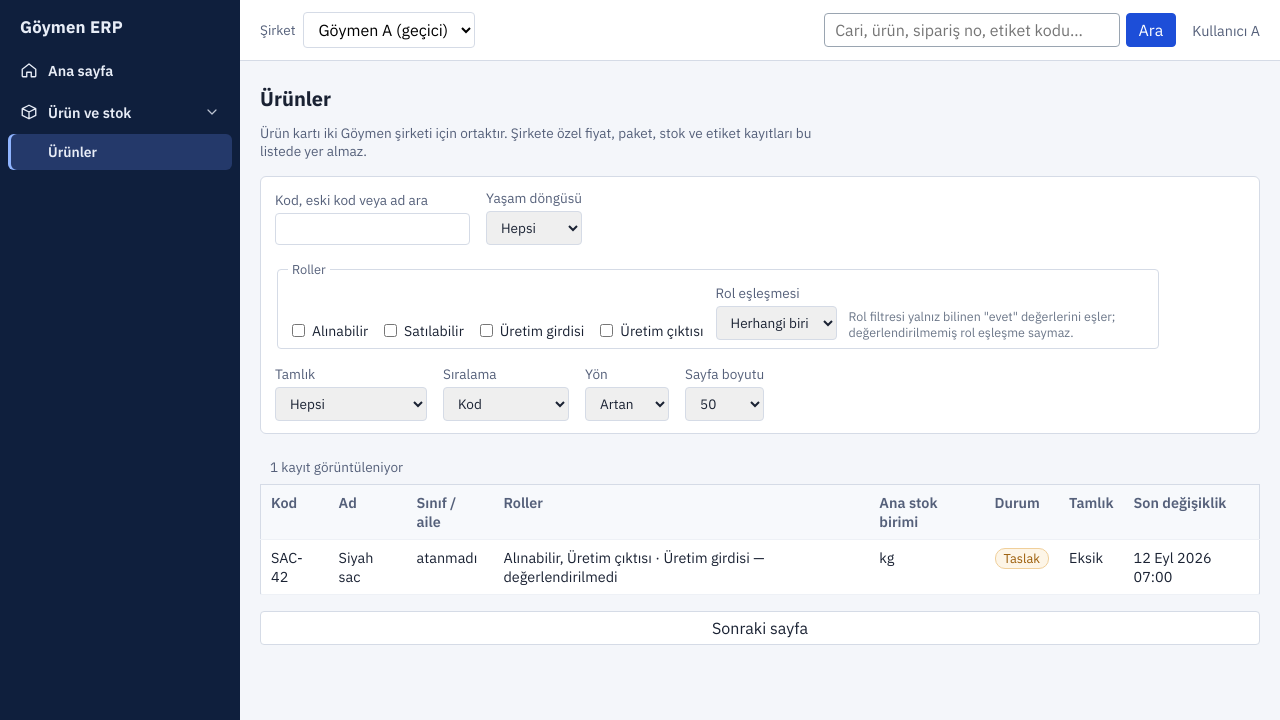
Test: paging › keeps the rows already on screen when the next page fails
Click the button "Sonraki sayfa" at (760, 628), box [260,611,1260,645]
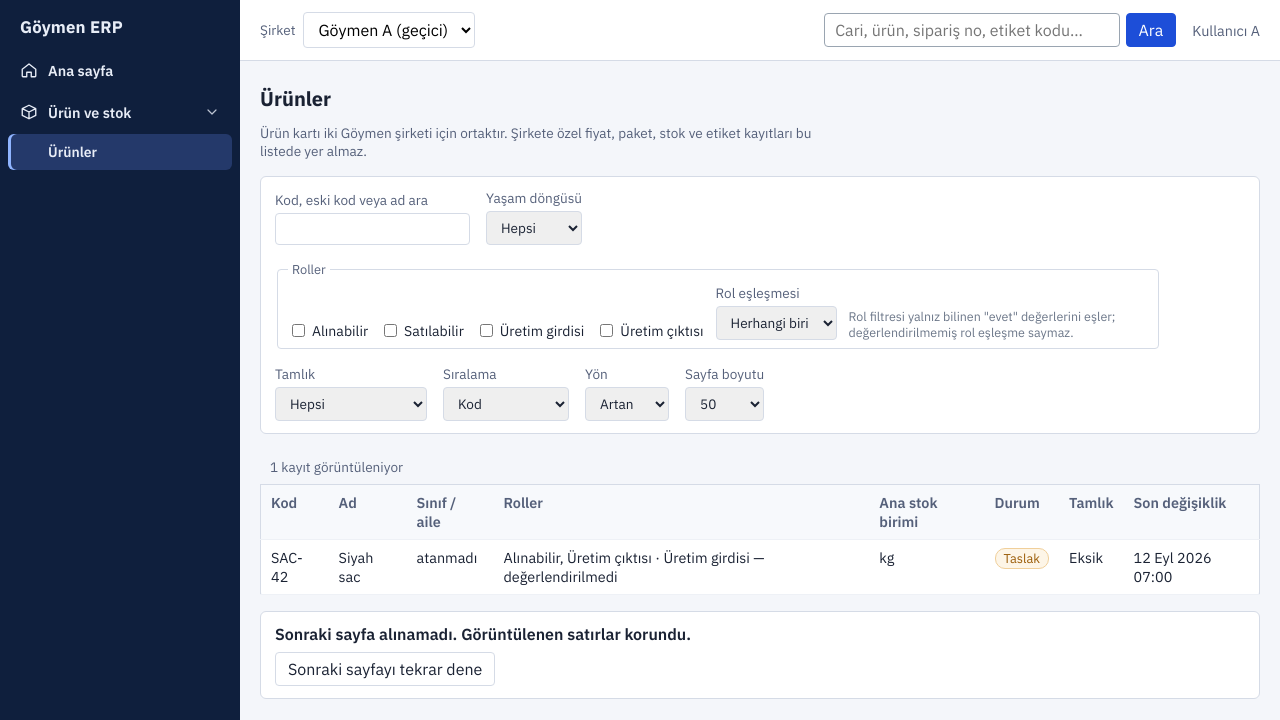
Expected: the text "SAC-42" is shown, [271,548,303,586]
Expected: the text "Sonraki sayfa alınamadı. Görüntülenen satırlar korundu." is shown, [275,624,691,644]
